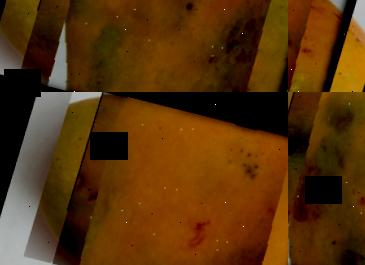PartiallyRipe: (43, 92, 288, 265), (13, 0, 288, 92), (288, 92, 365, 265)
Ripe: (288, 0, 362, 92)
